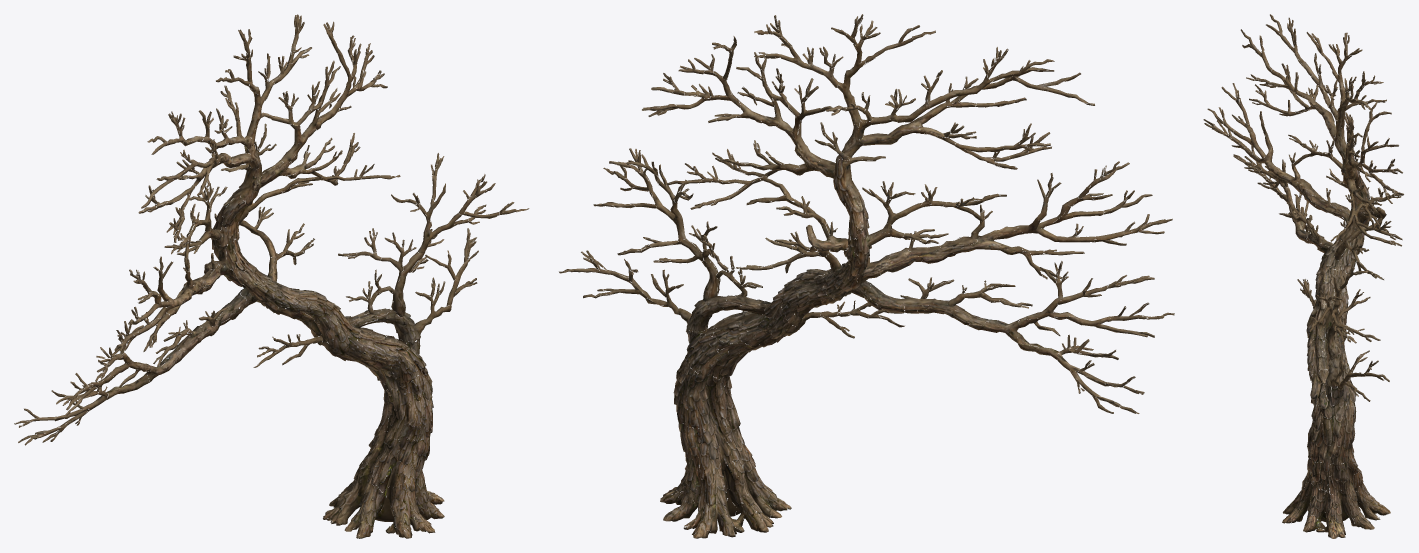
The model's file is ronin-sakura-v01.glb.
3 views of the same model, side by side, from view 1: azimuth 30°, elevation 25°; view 2: azimuth 150°, elevation 25°; view 3: azimuth 270°, elevation 25° (orthographic). The views are drawn at different scales.
Visible parts, largest first — view 1: sakura | web; view 2: sakura | web; view 3: sakura | web.
Part boxes in pixels (left/top/right/bottom): sakura | web: left=14, top=14, right=529, bottom=538; sakura | web: left=559, top=14, right=1174, bottom=538; sakura | web: left=1203, top=14, right=1403, bottom=538.
Bounding box in the file's own units: 0.7781 × 0.7402 × 0.3163.
Materials: 1 (1 with a texture image).
